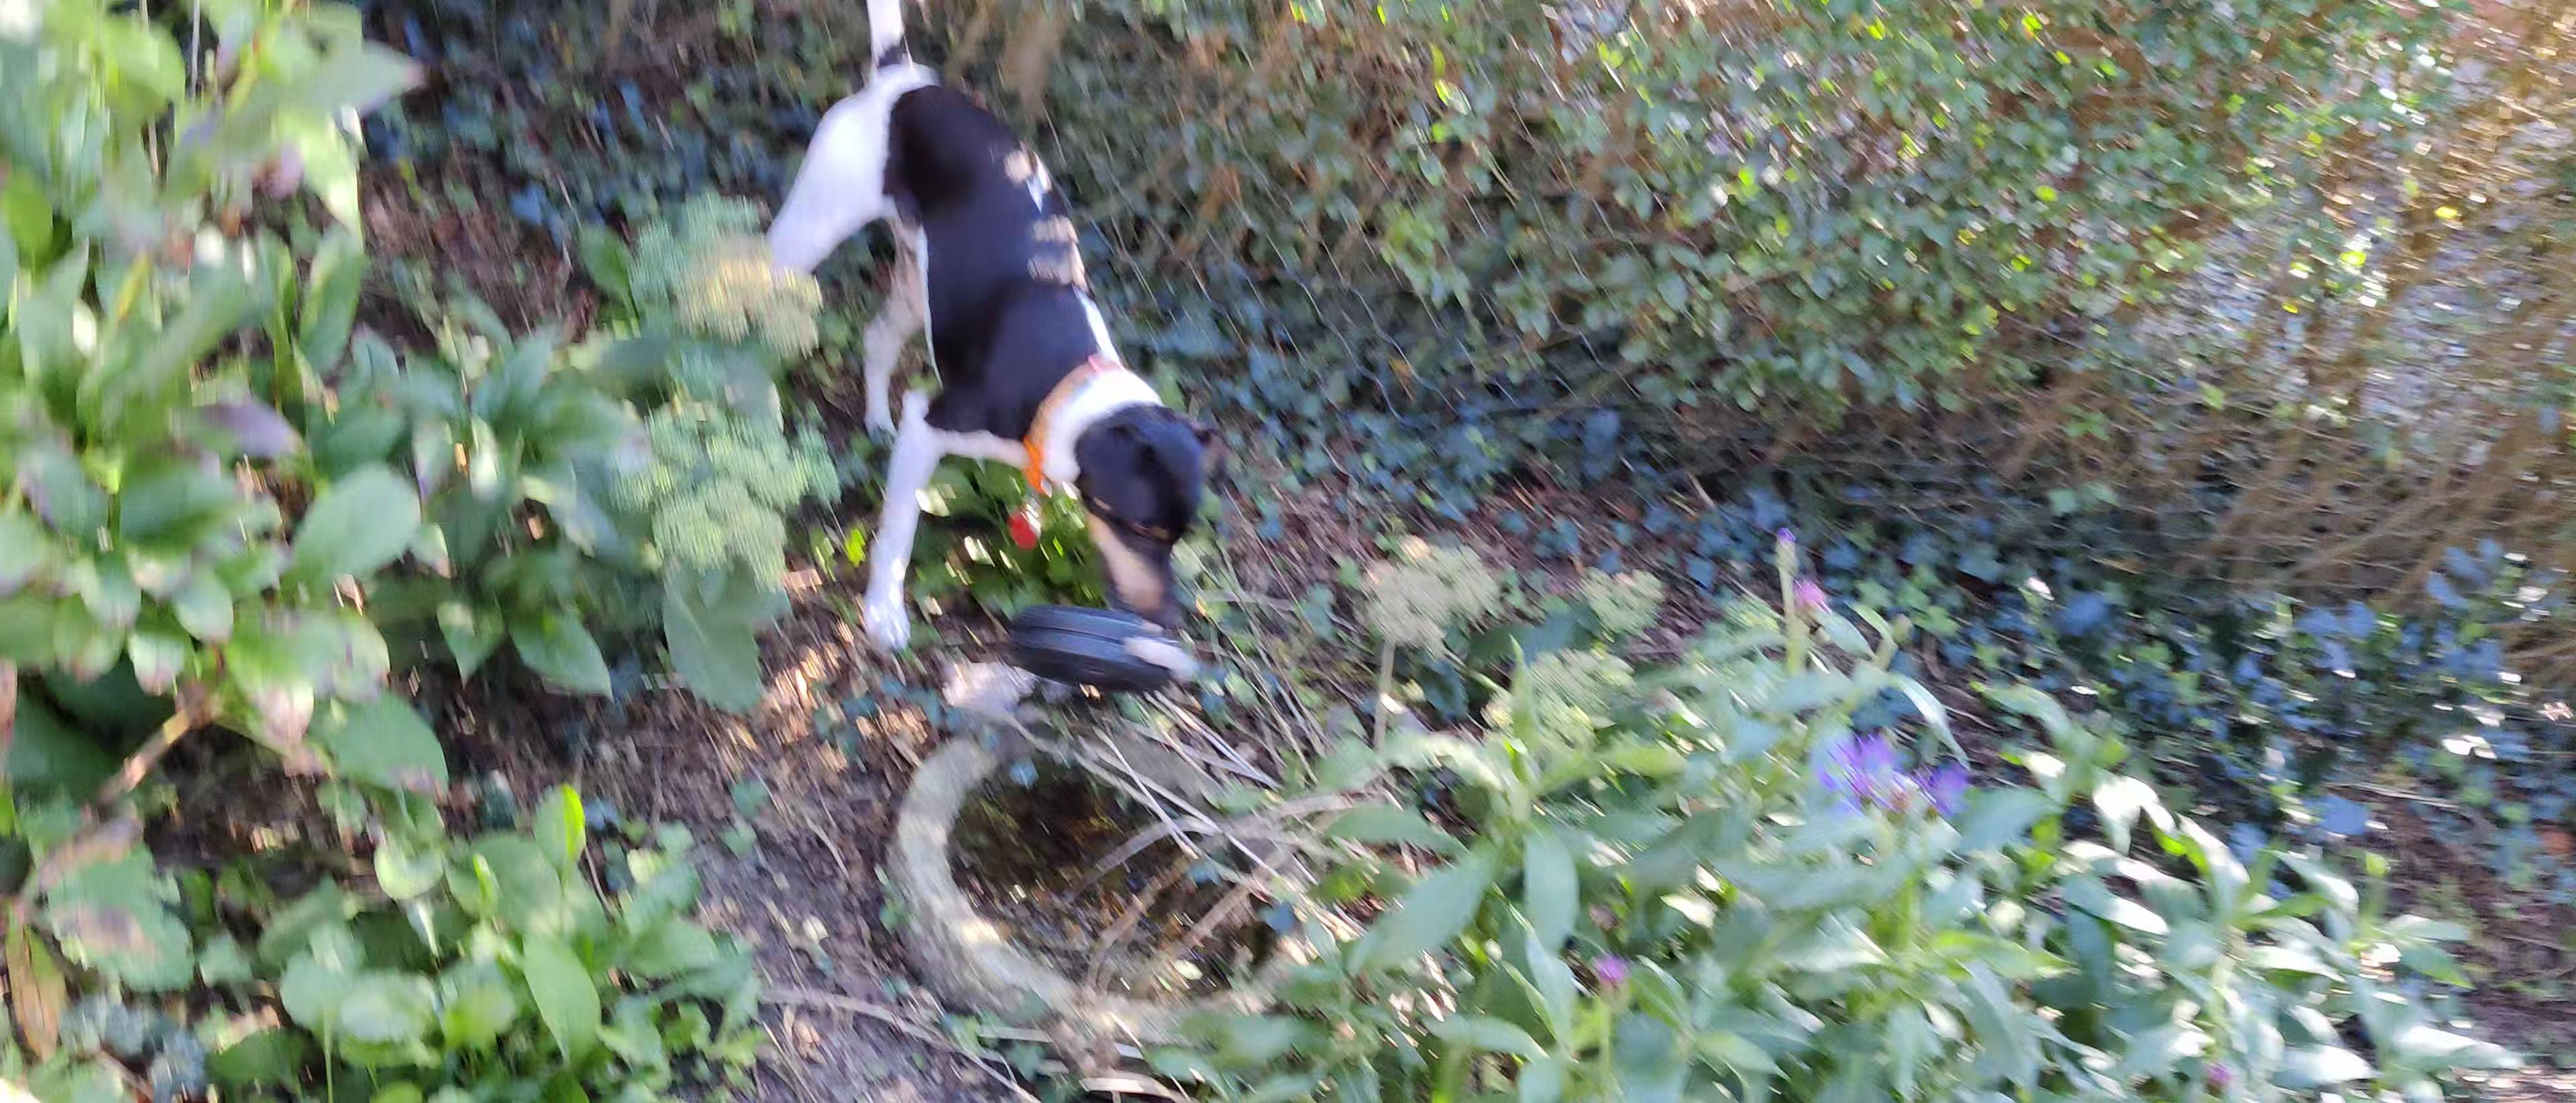Dog: (757, 0, 1224, 662)
